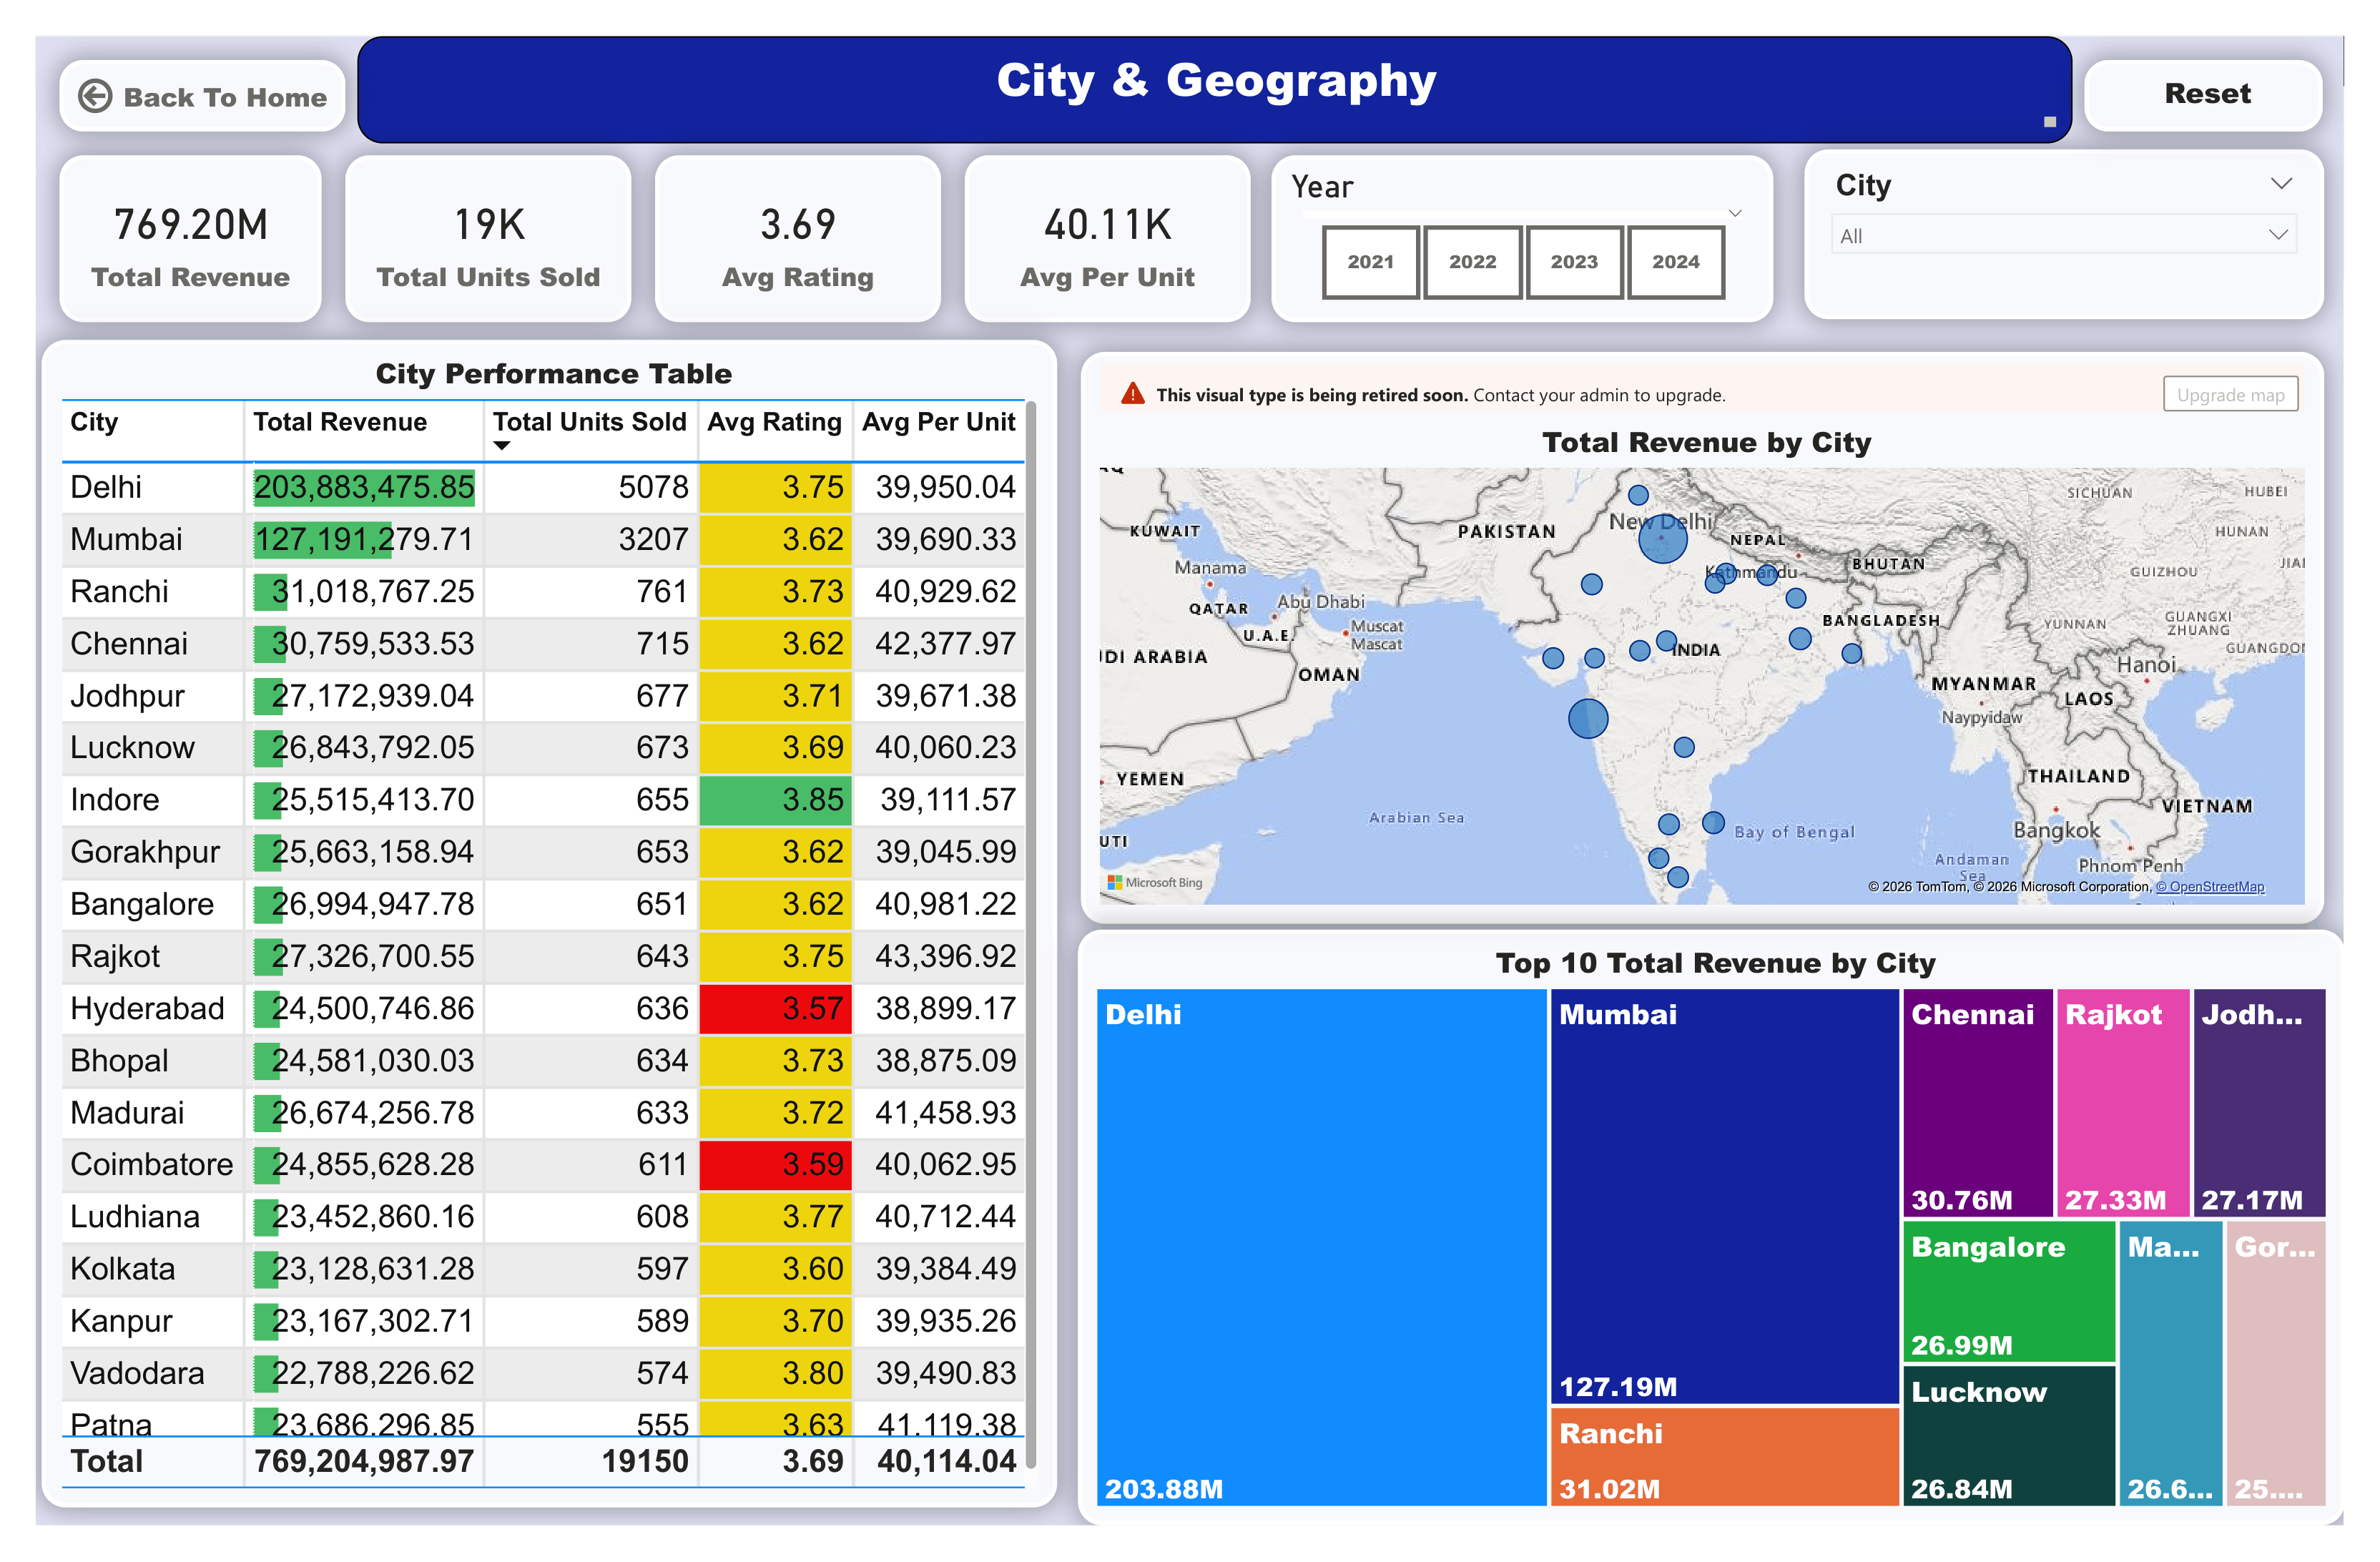

Layout of this report page (visuals, bound fields, positions):
{"tool":"powerbi","page":{"name":"City & Geography Analysis","canvas":[1550,1000],"ordinal":2},"visuals":[{"type":"textbox","title":"City & Geography","box":[216,0,1152,72],"z":0},{"type":"card","fields":{"Values":["mobile_sales.Total Revenue"]},"box":[16,80,176,112],"z":1000},{"type":"card","fields":{"Values":["mobile_sales.Total Units Sold"]},"box":[208,80,192,112],"z":2000},{"type":"card","fields":{"Values":["mobile_sales.Avg Rating"]},"box":[416,80,192,112],"z":3000},{"type":"card","fields":{"Values":["mobile_sales.Avg Price Per Unit"]},"box":[624,80,192,112],"z":4000},{"type":"map","fields":{"Category":["mobile_sales.City"],"Size":["mobile_sales.Total Revenue"]},"box":[702,211.8,835.3,384.3],"z":5000},{"type":"tableEx","title":"City Performance Table","fields":{"Values":["mobile_sales.City","mobile_sales.Total Revenue","mobile_sales.Total Units Sold","mobile_sales.Avg Rating","mobile_sales.Avg Price Per Unit"]},"box":[4,204,682,784],"z":6000},{"type":"treemap","title":"Top 10 Total Revenue by City","fields":{"Group":["mobile_sales.City"],"Values":["mobile_sales.Total Revenue"]},"box":[700,600,851,400],"z":7000},{"type":"slicer","fields":{"Values":["mobile_sales.City"]},"box":[1188.2,76.5,349,113.7],"z":8000},{"type":"actionButton","title":"Reset","box":[1376,16,160,48],"z":9000},{"type":"actionButton","box":[16,16,192,48],"z":10000},{"type":"slicer","title":"Year","fields":{"Values":["DateTable.Year"]},"box":[830,80,336.7,111.7],"z":11000}]}

Visuals, with their boxes on the page's 1550x1000 design canvas (x1, y1, x2, y2). These are canvas units, not pixel positions in the 2380x1562 screenshot, which may show the page scaled, cropped or inside an application window:
"City & Geography" textbox: select_region(216, 0, 1368, 72)
card - mobile_sales.Total Revenue: select_region(16, 80, 192, 192)
card - mobile_sales.Total Units Sold: select_region(208, 80, 400, 192)
card - mobile_sales.Avg Rating: select_region(416, 80, 608, 192)
card - mobile_sales.Avg Price Per Unit: select_region(624, 80, 816, 192)
map - mobile_sales.City x mobile_sales.Total Revenue: select_region(702, 212, 1537, 596)
"City Performance Table" tableEx: select_region(4, 204, 686, 988)
"Top 10 Total Revenue by City" treemap: select_region(700, 600, 1551, 1000)
slicer - mobile_sales.City: select_region(1188, 76, 1537, 190)
"Reset" actionButton: select_region(1376, 16, 1536, 64)
actionButton: select_region(16, 16, 208, 64)
"Year" slicer: select_region(830, 80, 1167, 192)
